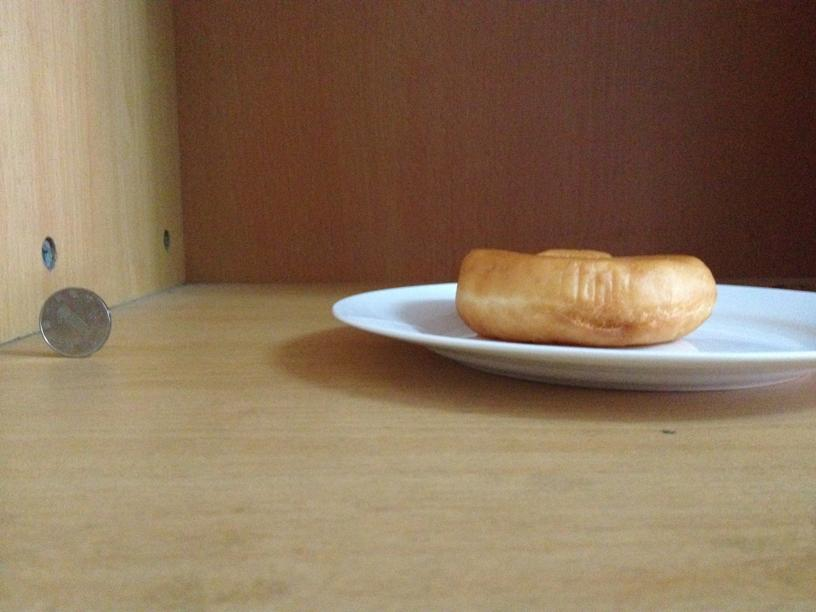coin: (36, 289, 110, 359)
doughnut: (451, 242, 715, 346)
